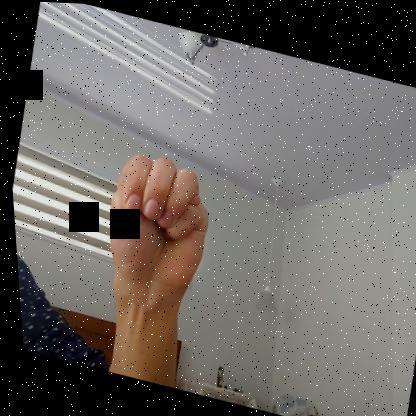M: (88, 140, 221, 296)
